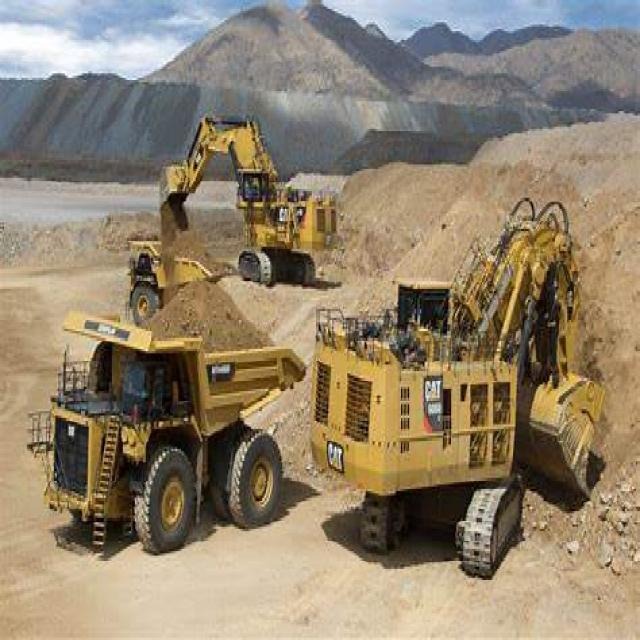dump_truck: (32, 276, 314, 580), (109, 222, 247, 356)
excavator: (305, 182, 612, 589), (147, 89, 347, 300)
